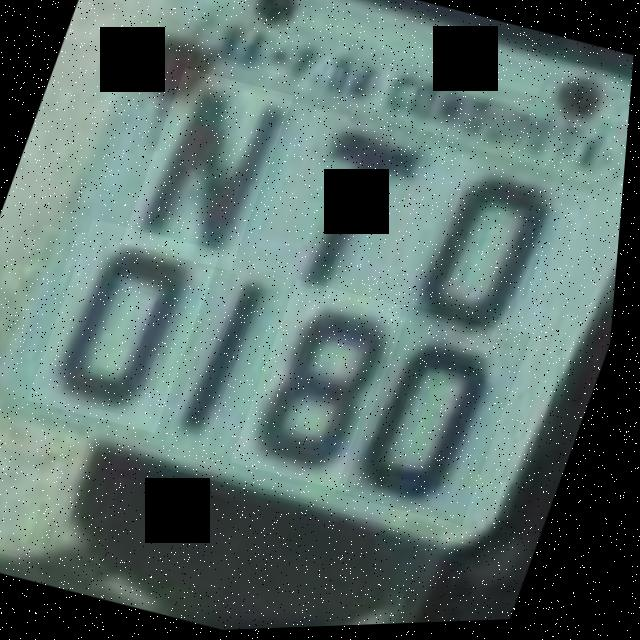0: (341, 302, 539, 533), (31, 215, 227, 438)
1: (163, 274, 286, 447)
8: (237, 278, 417, 497)
N: (123, 66, 297, 276)
O: (397, 146, 582, 355)
T: (268, 108, 435, 308)
